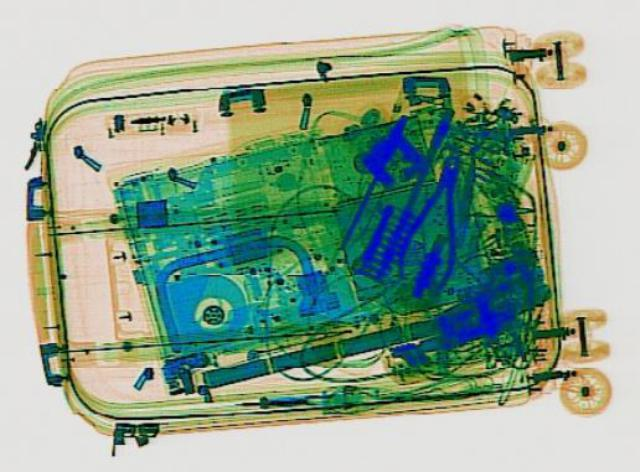Pliers: (384, 149, 486, 291)
